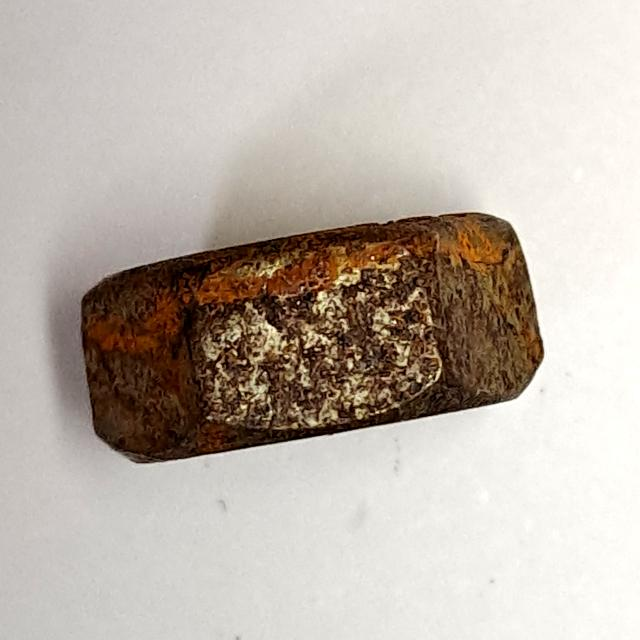Side_Rust: (66, 197, 583, 485)
